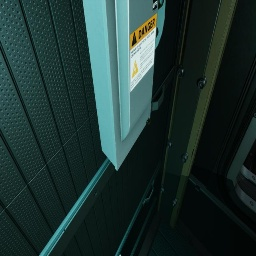SafetySwitchPanel ,: (82, 0, 166, 171)
